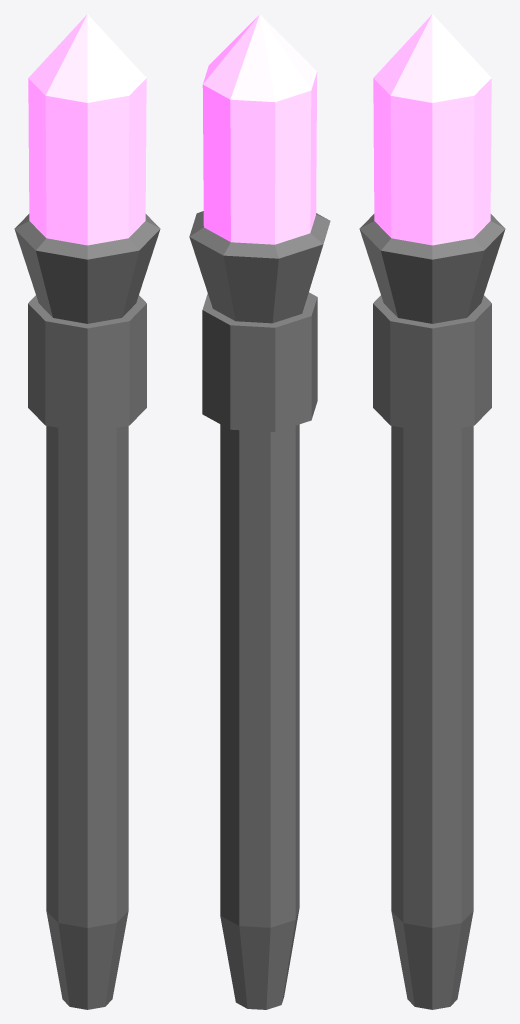
File: Wand.glb
3 views of the same model, side by side, from view 1: azimuth 90°, elevation 25°; view 2: azimuth 150°, elevation 25°; view 3: azimuth 270°, elevation 25° (orthographic).
Parts seen in each view (by area): view 1: Cube; view 2: Cube; view 3: Cube.
Boxes of the visible parts, x1=… form: Cube: x1=14, y1=14, x2=160, y2=1009; Cube: x1=189, y1=14, x2=330, y2=1009; Cube: x1=359, y1=14, x2=505, y2=1009.
Size of the model in its own units: 0.1332 by 0.991 by 0.1332.
